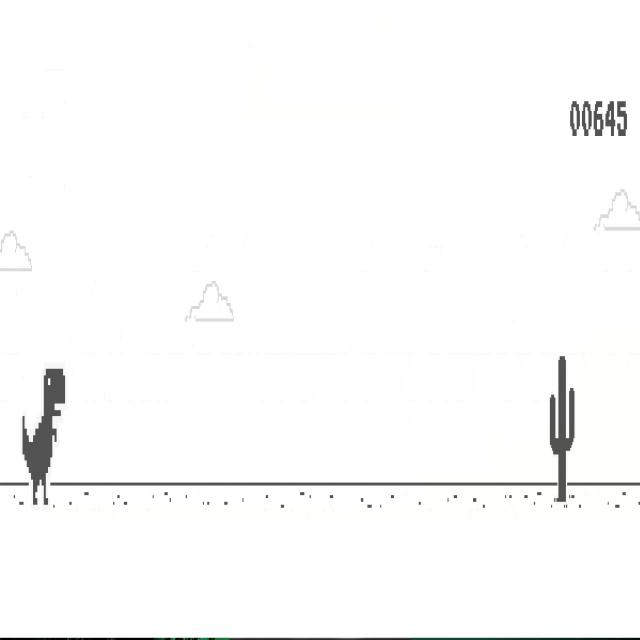cacto: (550, 354, 574, 502)
dino: (22, 368, 66, 507)
